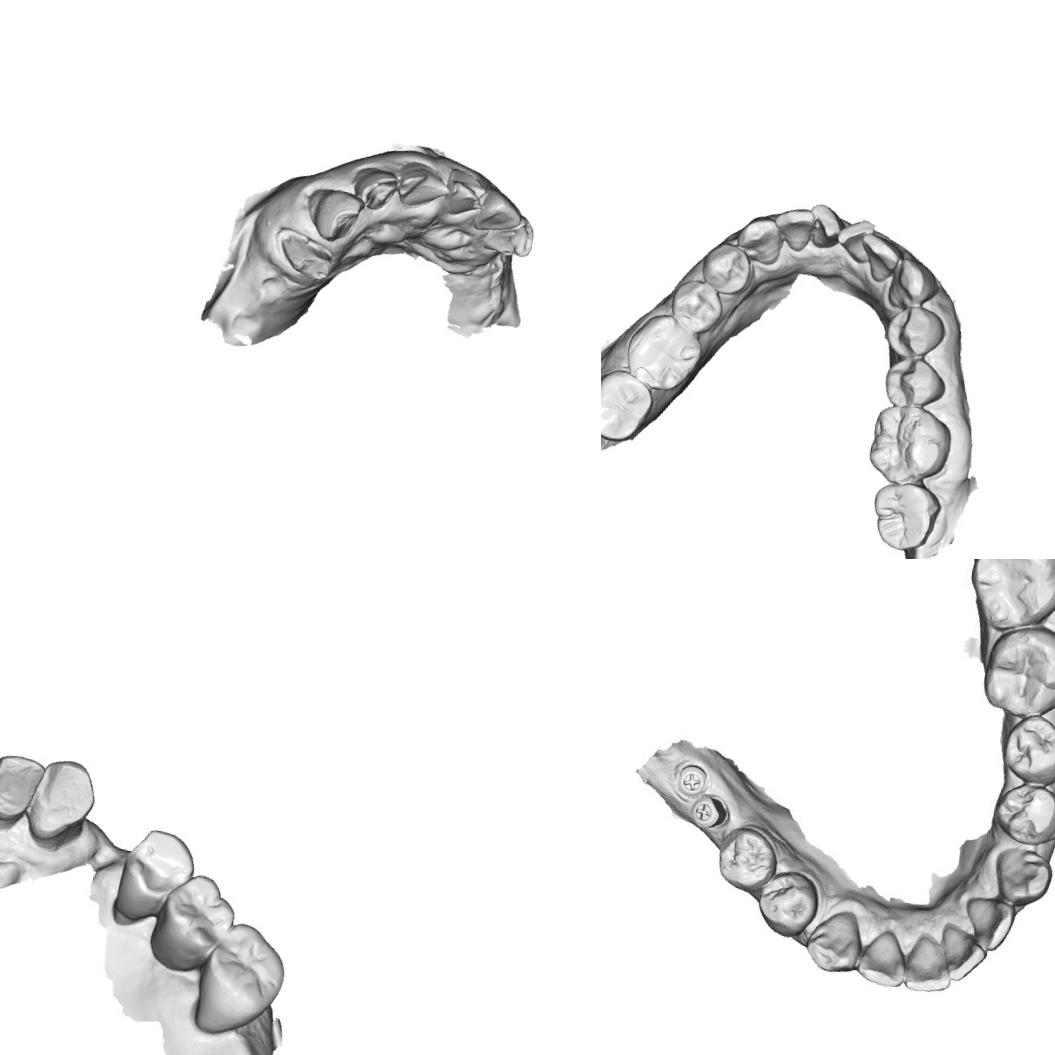canine: (21, 754, 98, 848), (803, 906, 867, 977), (302, 184, 368, 246), (995, 842, 1055, 903), (885, 254, 942, 314), (734, 211, 786, 267)
crown: (271, 226, 339, 284)
implant_plus: (685, 786, 730, 836), (671, 758, 712, 802)
incisor: (0, 749, 48, 830), (392, 154, 454, 216), (442, 160, 492, 224), (961, 897, 1017, 954), (856, 926, 907, 988), (471, 185, 527, 238), (940, 924, 989, 984), (348, 162, 403, 215), (855, 231, 907, 285), (905, 936, 952, 995), (770, 204, 816, 253), (805, 201, 849, 251), (832, 216, 876, 265)
molar: (196, 916, 293, 1018), (865, 400, 956, 491), (156, 867, 242, 963), (621, 308, 708, 396), (982, 624, 1055, 725), (967, 559, 1055, 638), (867, 478, 945, 556), (601, 364, 657, 445)
premolar: (112, 824, 200, 916), (881, 352, 949, 413), (714, 823, 776, 889), (882, 301, 948, 362), (995, 780, 1055, 844), (667, 278, 726, 338), (698, 239, 754, 298), (761, 874, 815, 930), (1008, 714, 1055, 778)
